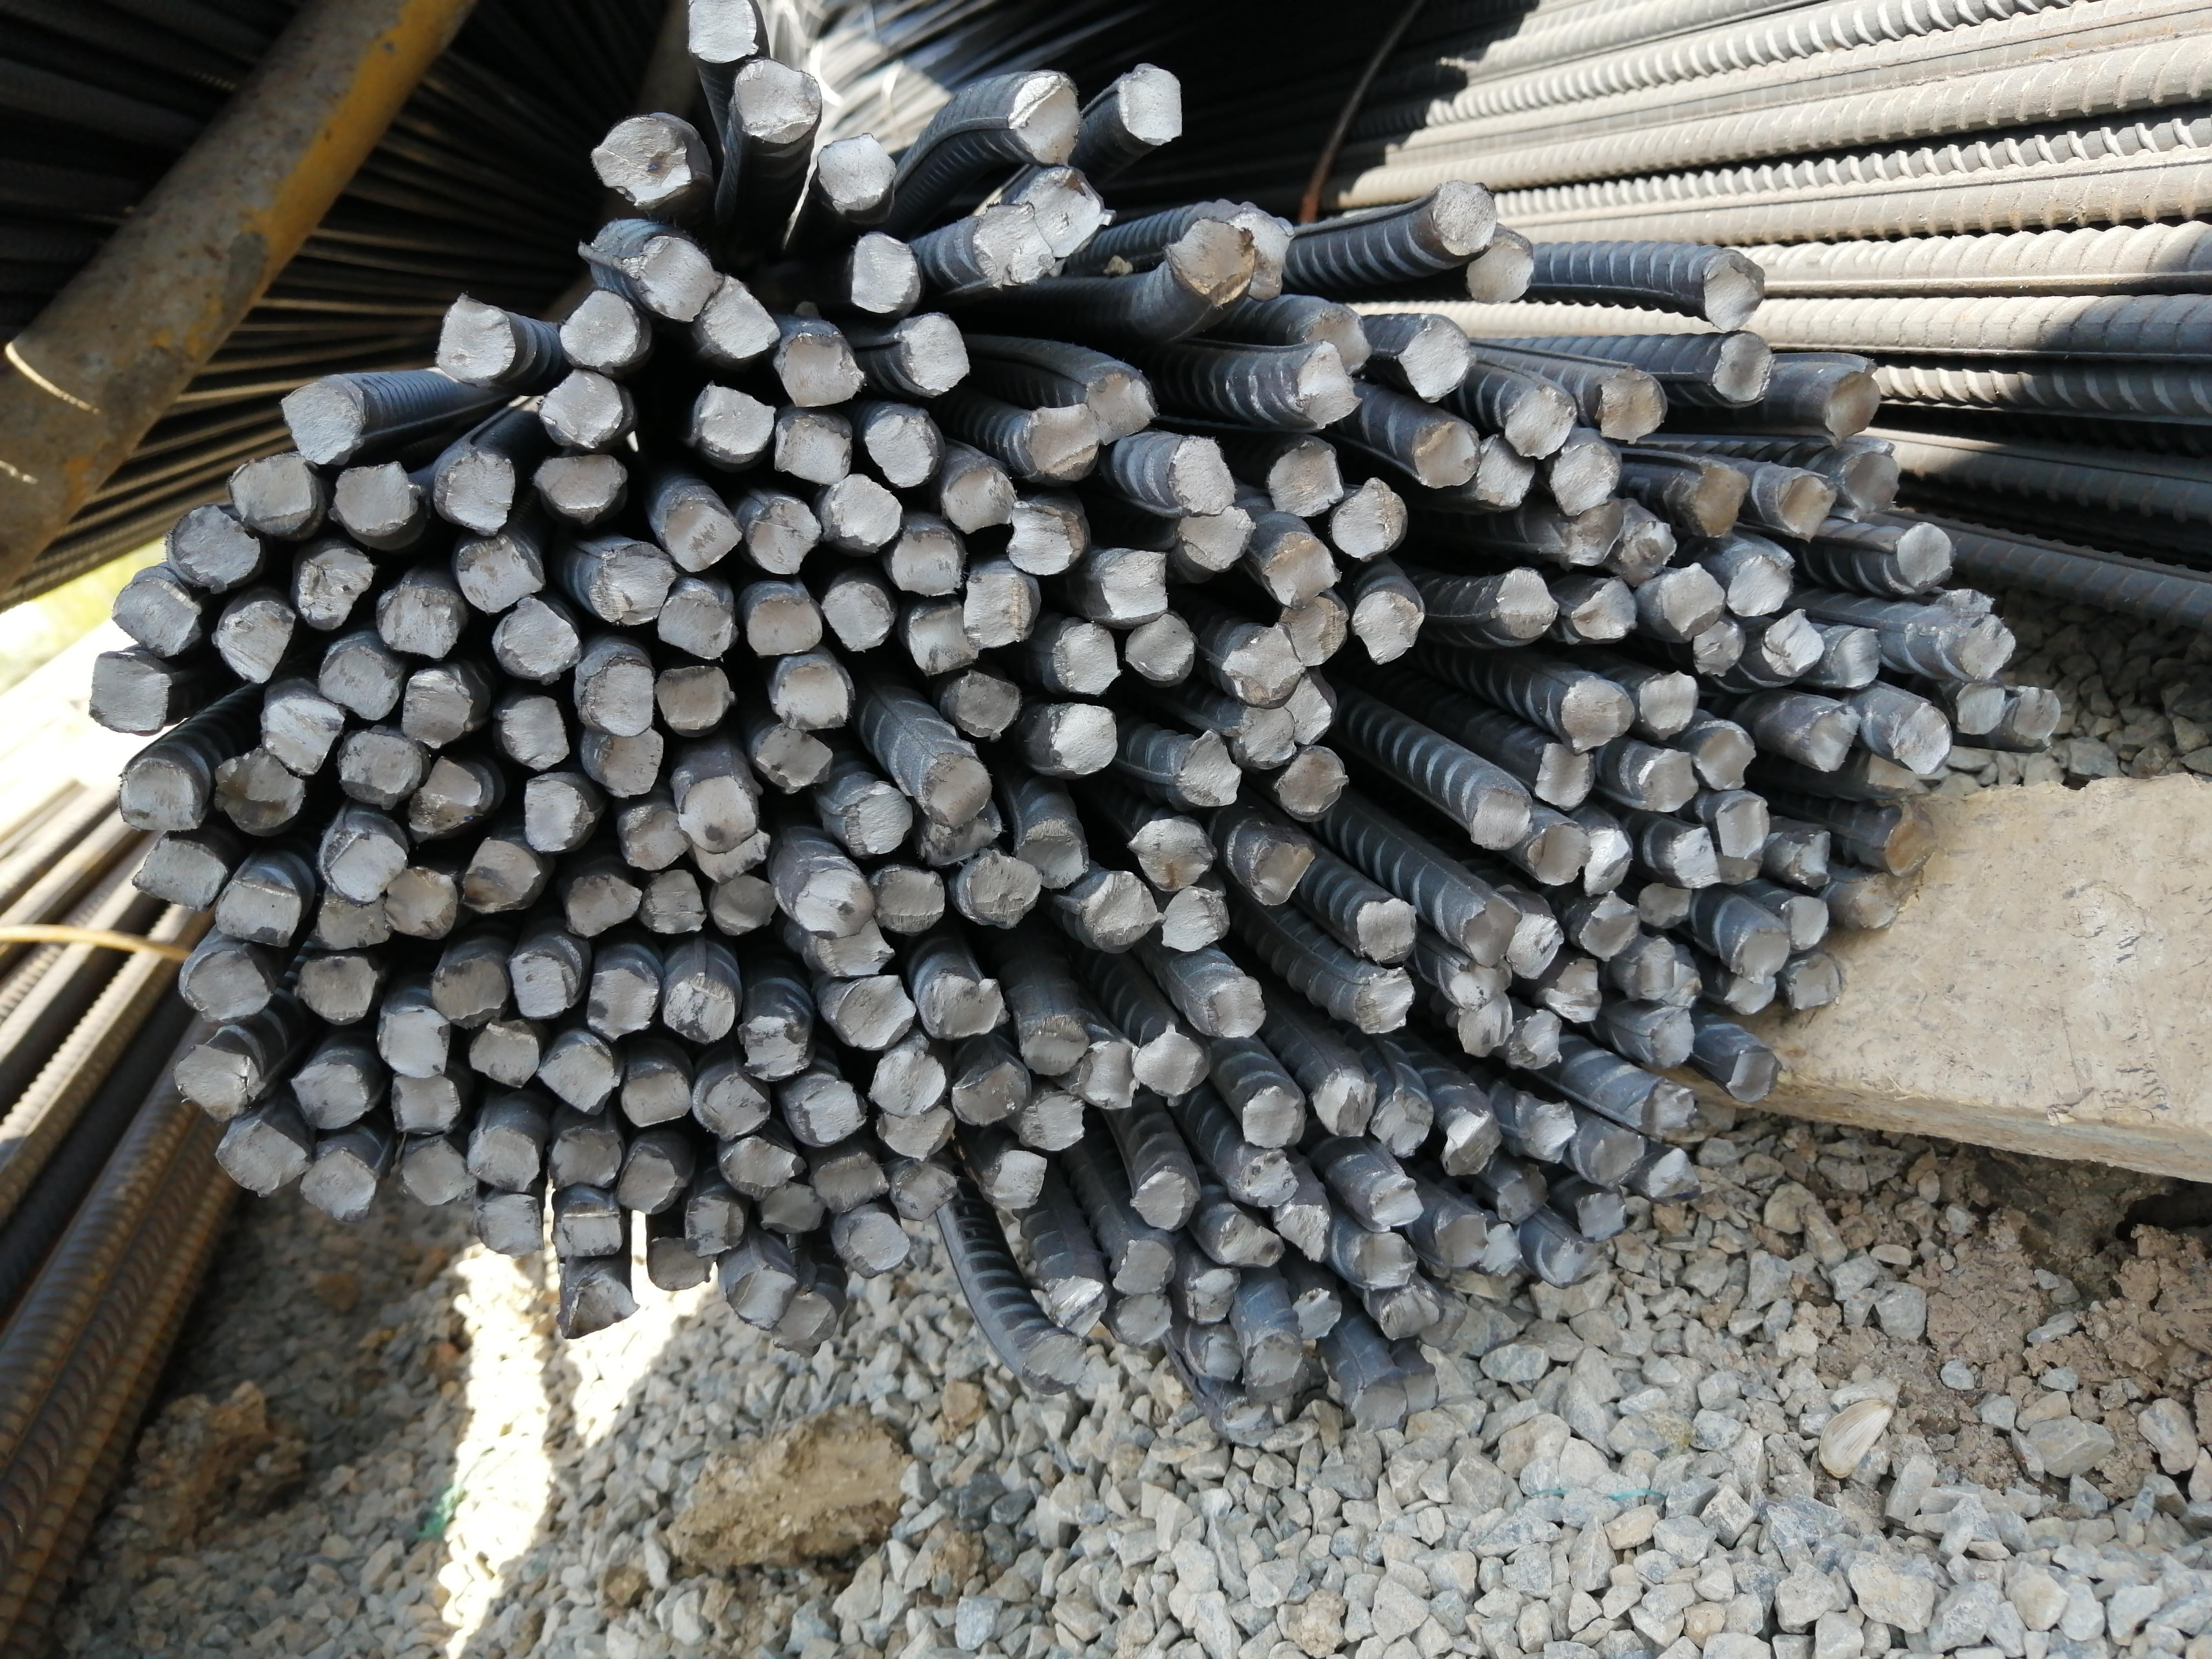rebar: (1014, 161, 1116, 261), (593, 113, 698, 212), (619, 233, 723, 325), (1163, 214, 1260, 310), (104, 571, 206, 661), (211, 748, 309, 838), (164, 502, 262, 593), (83, 649, 177, 740), (209, 1117, 311, 1200), (1108, 51, 1191, 152), (731, 55, 824, 145), (770, 327, 869, 410), (584, 539, 676, 626), (491, 597, 581, 683), (696, 274, 784, 364), (170, 1042, 266, 1124), (432, 291, 517, 382), (1007, 69, 1084, 166), (1397, 310, 1474, 408), (974, 200, 1060, 289), (212, 597, 298, 685), (535, 368, 628, 447), (224, 456, 321, 532), (260, 691, 347, 776), (1221, 621, 1306, 706), (281, 383, 367, 465), (292, 546, 375, 632), (180, 946, 273, 1024), (694, 375, 776, 459), (404, 754, 485, 842), (787, 866, 875, 945), (1225, 205, 1296, 302), (134, 839, 229, 912), (1004, 498, 1089, 579), (1261, 526, 1341, 612), (443, 447, 518, 535), (1126, 818, 1217, 892), (1130, 1025, 1213, 1107), (323, 826, 407, 905), (115, 756, 202, 833), (1331, 473, 1408, 560), (372, 586, 460, 661), (899, 311, 974, 399), (1290, 341, 1363, 430), (460, 835, 540, 917), (300, 1145, 379, 1227), (1080, 870, 1164, 948), (1174, 500, 1259, 576), (401, 667, 473, 754), (212, 877, 305, 946), (317, 645, 401, 721), (658, 496, 743, 573), (1024, 403, 1101, 486), (537, 1040, 623, 1115), (814, 136, 899, 211), (534, 450, 628, 518), (328, 462, 415, 534), (454, 544, 545, 613), (521, 776, 600, 856), (340, 730, 421, 807), (561, 291, 643, 368), (1085, 368, 1161, 450), (676, 776, 759, 851), (1428, 176, 1502, 260), (382, 866, 460, 944), (1047, 620, 1126, 699), (885, 524, 966, 599), (658, 969, 739, 1045), (914, 753, 994, 830), (847, 231, 921, 312), (768, 660, 854, 732), (1171, 726, 1243, 810), (1697, 252, 1767, 336), (292, 956, 379, 1025), (835, 976, 915, 1052), (1266, 440, 1344, 518), (1547, 440, 1625, 518), (1560, 674, 1636, 755), (1679, 458, 1752, 540), (750, 492, 821, 576), (936, 463, 1020, 532), (1273, 591, 1351, 668), (399, 1139, 477, 1212), (1503, 384, 1579, 461), (904, 603, 985, 676), (1099, 548, 1172, 627), (966, 851, 1044, 923), (562, 870, 645, 940), (1168, 436, 1238, 517), (867, 1047, 950, 1117), (377, 1006, 454, 1080), (586, 963, 661, 1040), (862, 412, 938, 488), (950, 667, 1027, 740), (961, 570, 1035, 648), (1012, 820, 1091, 892), (1351, 590, 1423, 668), (774, 416, 853, 487), (753, 721, 834, 792), (829, 474, 903, 549), (1461, 778, 1536, 853), (498, 692, 571, 769), (838, 785, 914, 860), (925, 969, 1004, 1041), (1492, 564, 1562, 643), (1821, 357, 1882, 447), (654, 661, 736, 731), (655, 591, 737, 658), (615, 801, 689, 874), (870, 863, 945, 935), (1047, 702, 1120, 776), (1595, 372, 1670, 446), (385, 1068, 463, 1139), (1070, 1036, 1140, 1114), (1275, 749, 1351, 820), (1411, 414, 1480, 492), (544, 1125, 624, 1192), (812, 1149, 890, 1216), (1246, 832, 1315, 911), (1709, 329, 1777, 408), (291, 1062, 372, 1128), (429, 953, 509, 1019), (560, 1274, 641, 1340), (746, 591, 826, 657), (786, 1080, 865, 1146), (1888, 699, 1953, 781), (593, 729, 667, 800), (823, 581, 896, 653), (842, 1207, 915, 1278), (1656, 562, 1728, 636), (465, 1122, 540, 1191), (706, 872, 780, 940), (738, 1011, 813, 1081), (1298, 308, 1372, 379), (1567, 573, 1643, 643), (1124, 613, 1199, 682), (684, 0, 764, 66), (951, 1057, 1029, 1123), (1312, 1063, 1378, 1141), (1159, 884, 1230, 955), (467, 1023, 542, 1091), (1369, 1082, 1435, 1159), (1532, 740, 1597, 817), (809, 922, 895, 981), (1276, 669, 1339, 750), (1475, 432, 1538, 512), (589, 663, 658, 734), (1130, 1165, 1201, 1233), (1350, 966, 1419, 1036), (1952, 608, 2018, 683), (617, 1068, 694, 1132), (1014, 1333, 1092, 1396), (1798, 702, 1860, 780), (1351, 894, 1420, 964), (644, 867, 712, 937), (1200, 975, 1271, 1042), (1758, 607, 1825, 679), (702, 1073, 775, 1141), (1042, 1269, 1107, 1341), (1890, 521, 1955, 595), (1438, 1107, 1503, 1182), (1724, 551, 1799, 615), (694, 824, 772, 887), (1694, 719, 1756, 795), (919, 811, 1003, 866), (875, 1103, 955, 1162), (1019, 1011, 1088, 1078), (1563, 499, 1630, 568), (1523, 820, 1592, 888), (1637, 671, 1706, 739), (1347, 1366, 1413, 1438), (1464, 240, 1536, 305), (1773, 467, 1837, 541), (477, 1192, 545, 1260), (1458, 897, 1524, 967), (1634, 745, 1699, 815), (315, 895, 396, 954), (1241, 1327, 1305, 1399), (1214, 1211, 1286, 1276), (1838, 442, 1904, 514), (1850, 870, 1925, 931), (720, 1137, 796, 1197), (508, 950, 574, 1020), (728, 1264, 798, 1328), (1881, 801, 1941, 876), (890, 1160, 959, 1226), (1544, 955, 1607, 1025), (1578, 890, 1641, 960), (1617, 516, 1680, 582), (1108, 1237, 1176, 1300), (2008, 680, 2064, 755), (616, 1150, 681, 1214), (984, 1148, 1049, 1214), (1516, 1097, 1580, 1163), (684, 1194, 747, 1259), (1273, 1199, 1335, 1265), (1723, 1044, 1785, 1110), (1351, 1229, 1420, 1290), (1454, 992, 1516, 1059), (549, 1207, 626, 1259), (641, 1236, 713, 1294), (1508, 911, 1566, 983), (1361, 1168, 1427, 1232), (1586, 1124, 1649, 1188), (1507, 1005, 1566, 1073), (1183, 1260, 1241, 1329), (1235, 1144, 1298, 1209), (1238, 702, 1298, 769), (1543, 1232, 1610, 1289), (1826, 621, 1883, 690), (1641, 1078, 1704, 1141), (1242, 1083, 1301, 1148), (1447, 955, 1516, 1010), (1375, 1288, 1445, 1342), (1025, 1091, 1086, 1151), (781, 1287, 840, 1350), (762, 1181, 826, 1237), (1780, 826, 1837, 892), (1291, 1284, 1345, 1353), (1689, 613, 1744, 682), (1644, 1143, 1703, 1204), (1492, 1163, 1549, 1226), (1949, 680, 2010, 738), (1730, 927, 1796, 981), (1584, 825, 1635, 894), (1717, 798, 1775, 858), (1643, 1005, 1695, 1071), (1114, 1291, 1174, 1346), (1670, 825, 1723, 888), (1635, 875, 1694, 931), (1434, 1209, 1488, 1268), (1633, 936, 1681, 1002), (1787, 957, 1843, 1012), (1777, 892, 1829, 952), (1720, 966, 1782, 1016), (1221, 1399, 1277, 1453), (1192, 1326, 1242, 1386), (1479, 1218, 1527, 1280), (1573, 1187, 1628, 1239), (1399, 1357, 1444, 1415), (1662, 957, 1704, 1009), (1718, 844, 1765, 888)
